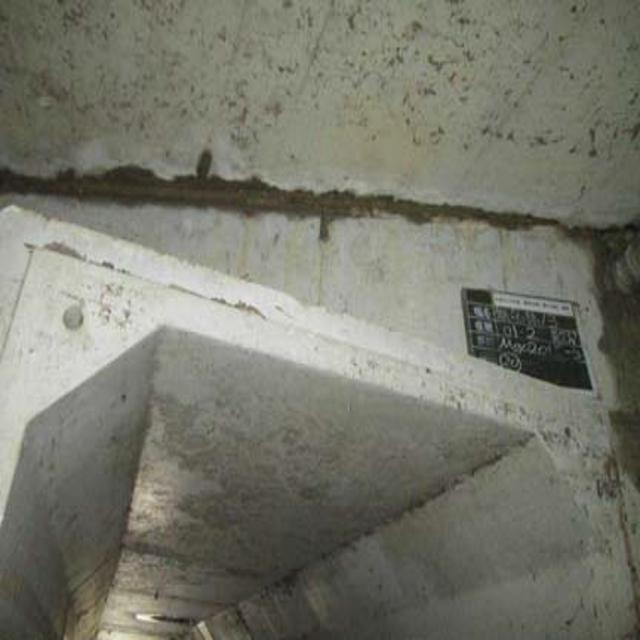leakage: (20, 160, 627, 234)
